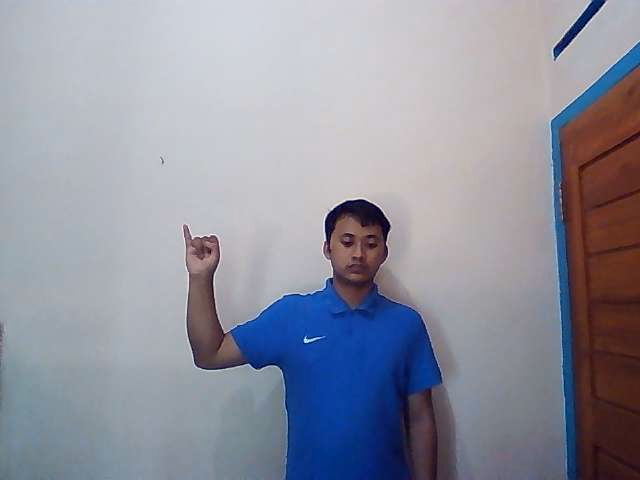I: (181, 222, 222, 276)
